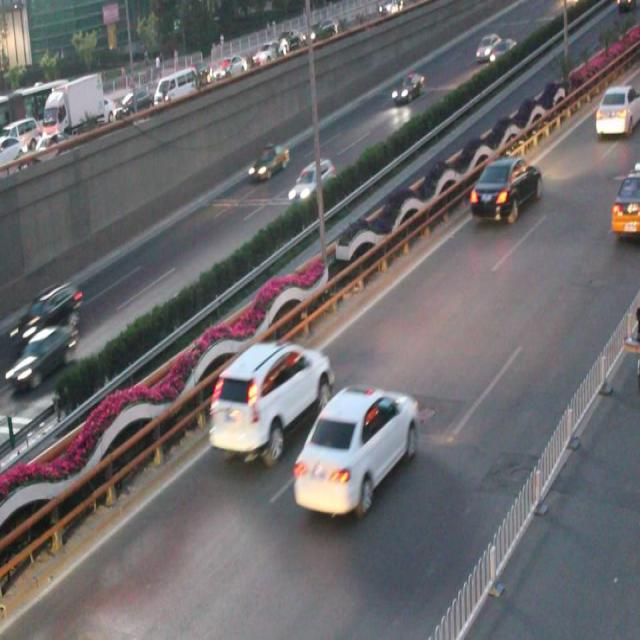car: (292, 383, 420, 515), (208, 343, 333, 462), (469, 155, 541, 222), (12, 322, 79, 390), (15, 283, 84, 342), (608, 166, 640, 239), (287, 158, 334, 200), (247, 144, 290, 182), (388, 73, 423, 106)
